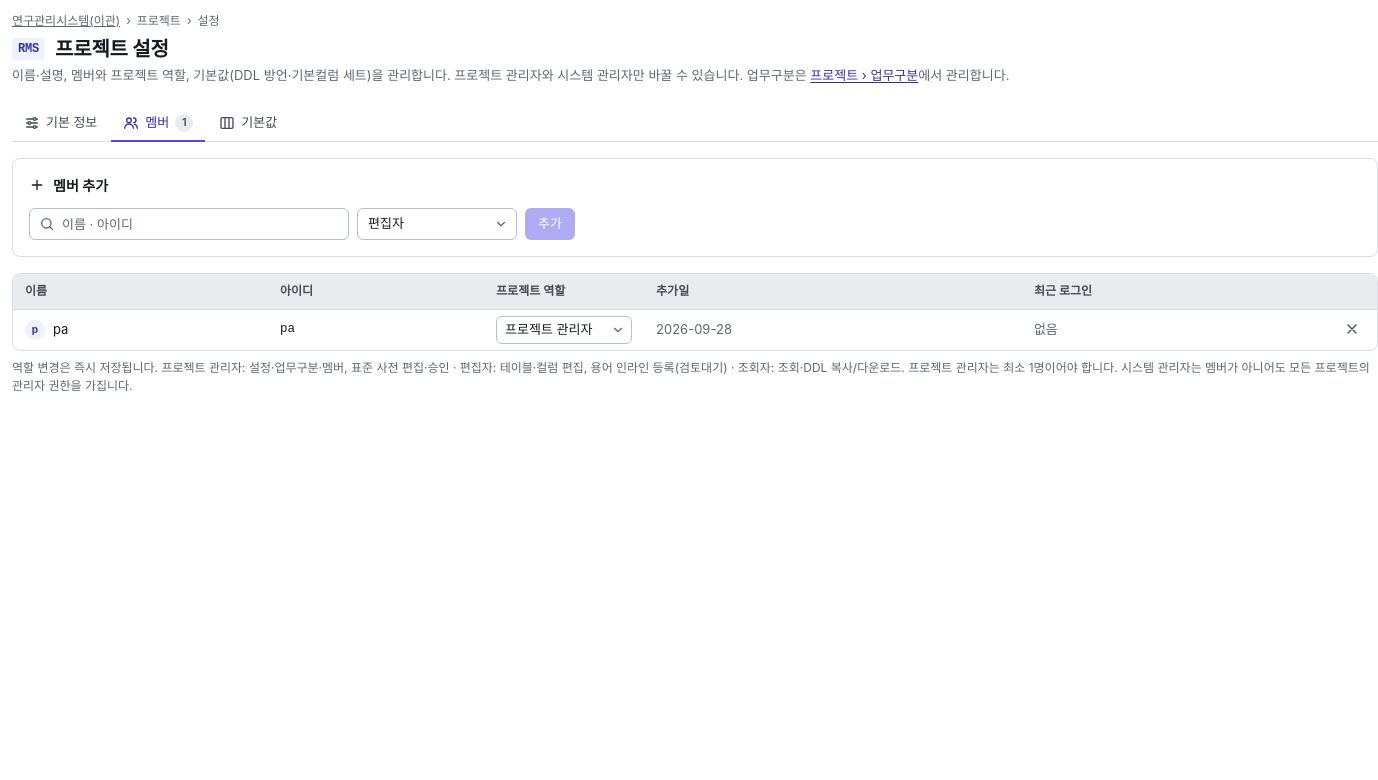
Test case: ProjectSettingsPage(12) › PA: 멤버 검색 → 추가, 마지막 관리자 강등 409는 안내 후 원복, 보관 버튼 비활성 + 요청 안내
Type "정민" into the field named "사용자 검색" at (189, 224), box [29, 208, 349, 240]
Wait 300 ms
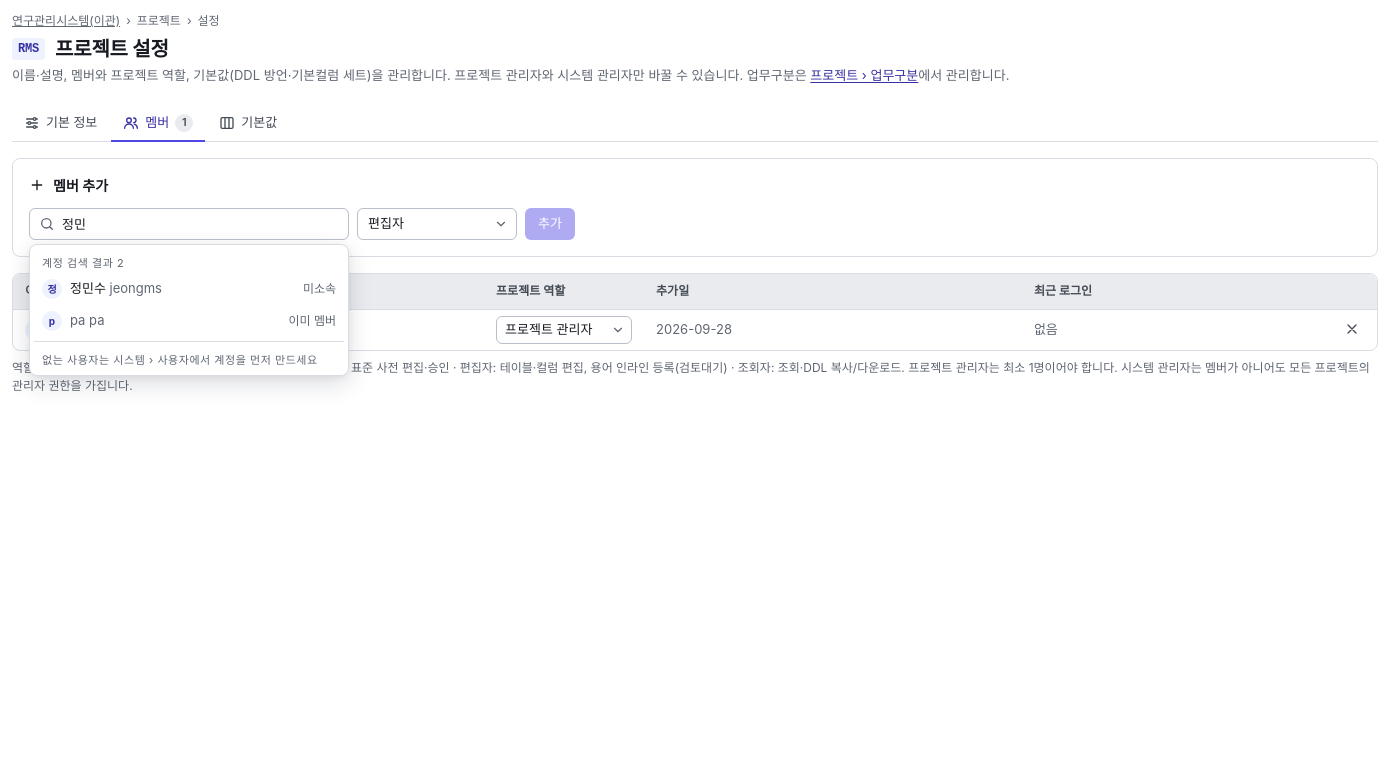
expect the option "p pa pa 이미 멤버" is disabled: met, box [34, 305, 344, 337]
Click the option "정 정민수 jeongms 미소속" at (90, 288), box [34, 273, 344, 305]
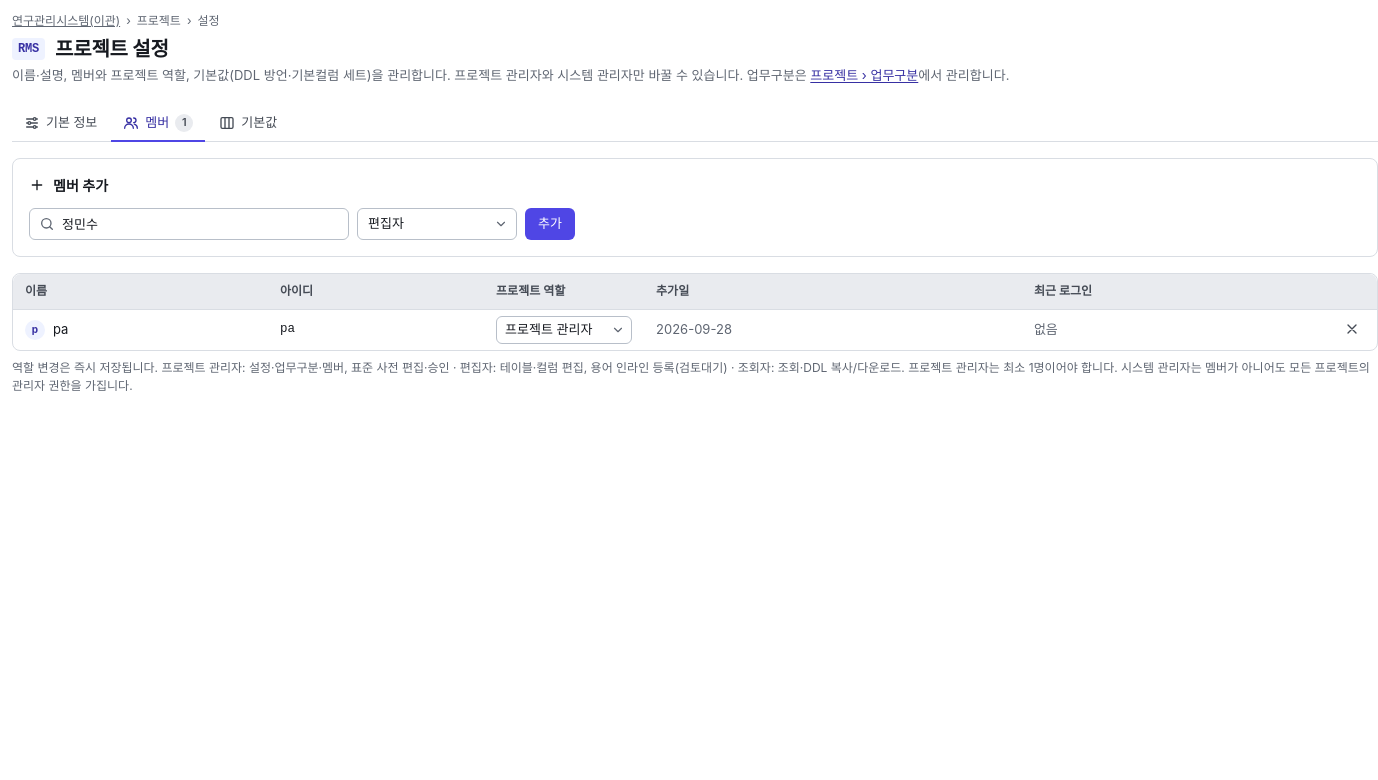
Click the button "추가" at (550, 224), box [525, 208, 575, 240]
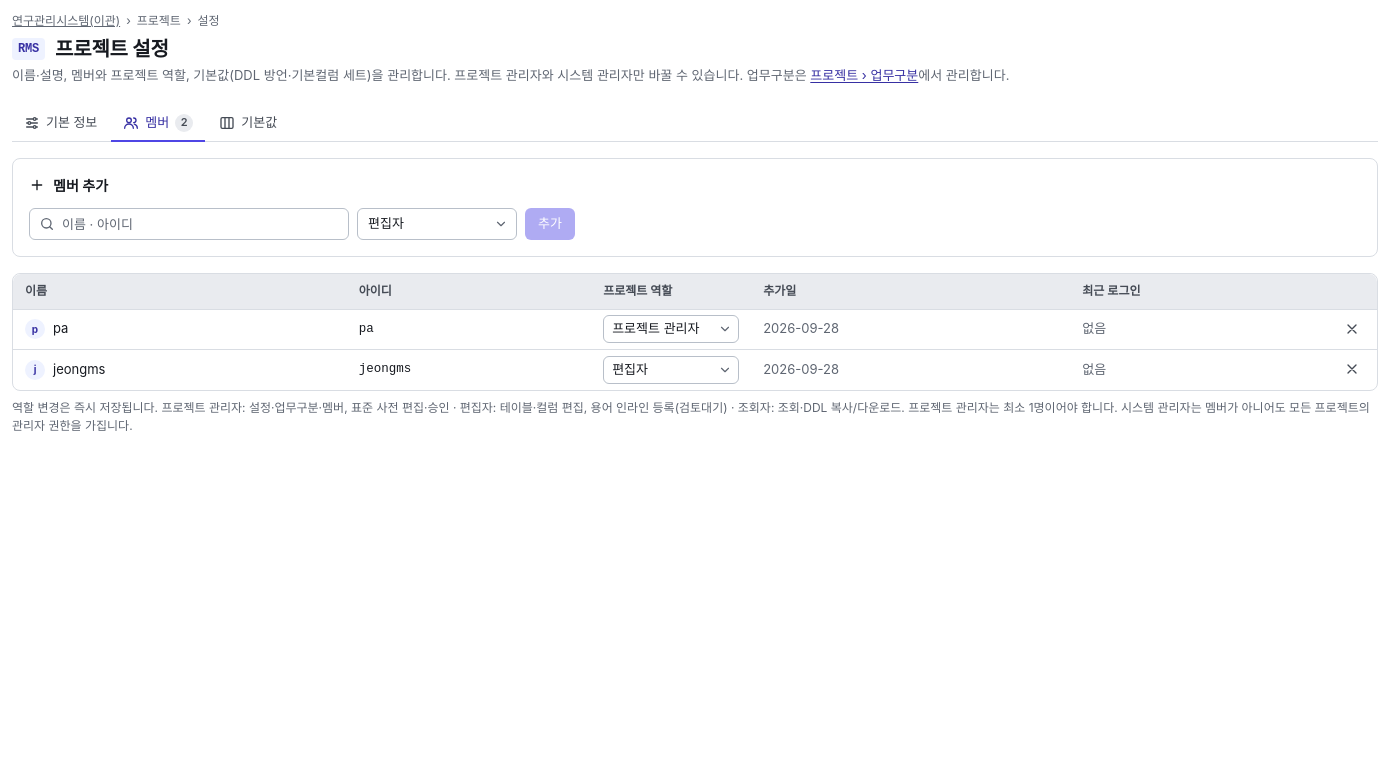
expect the text "jeongms" is shown: met, box [53, 361, 105, 377]
Select "편집자" in the dropdown named "pa 역할" at (671, 329), box [603, 315, 739, 343]
Click the tab "기본 정보" at (61, 124), box [12, 106, 109, 142]
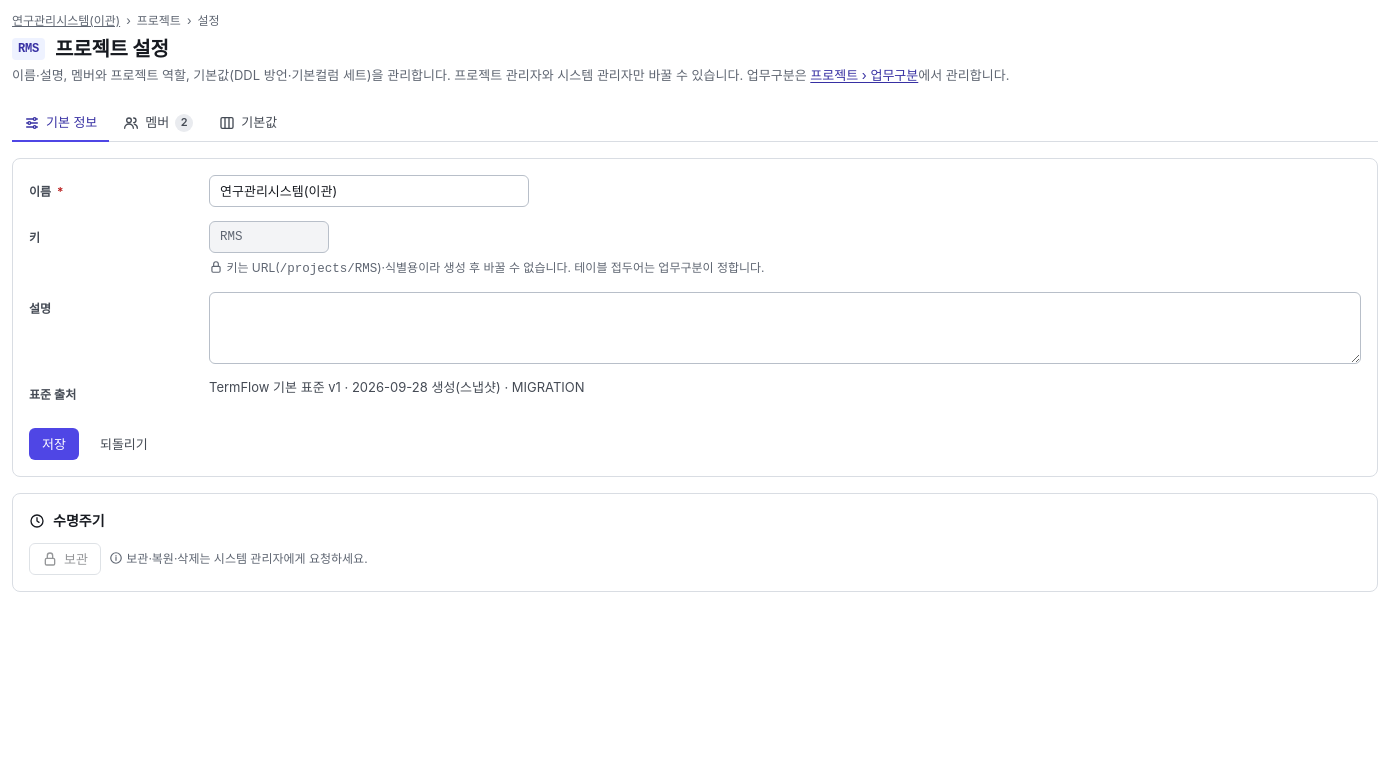
expect the button "보관" is disabled: met, box [29, 543, 101, 575]
expect the element with test id "archive-hint" shows "시스템 관리자에게 요청": met, box [123, 551, 368, 566]
expect the field with id "s-key" is disabled: met, box [209, 220, 329, 252]
